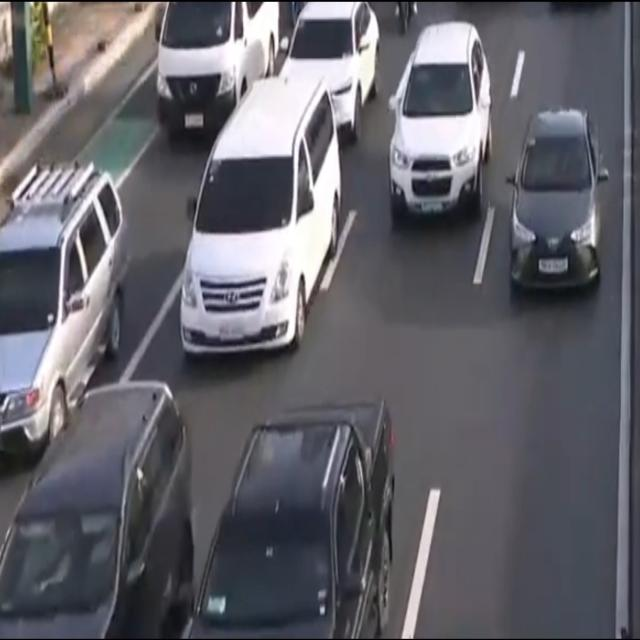SUV: (178, 365, 418, 640), (0, 359, 188, 640), (0, 156, 133, 454), (376, 10, 508, 236)
Sedan: (498, 98, 606, 312), (278, 0, 388, 157)
Van: (175, 84, 344, 360), (154, 0, 278, 146)
